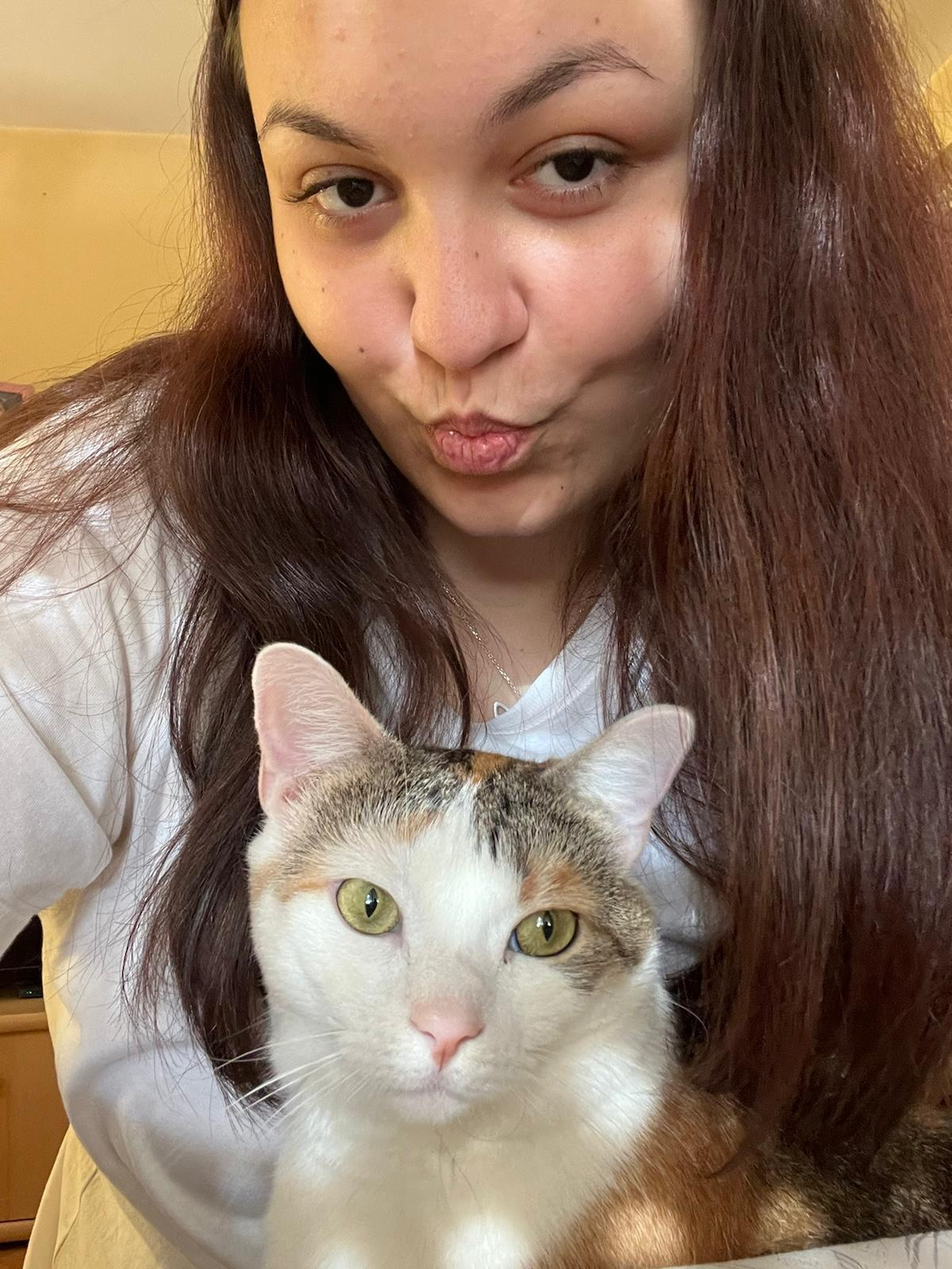macka: (246, 642, 702, 1268)
